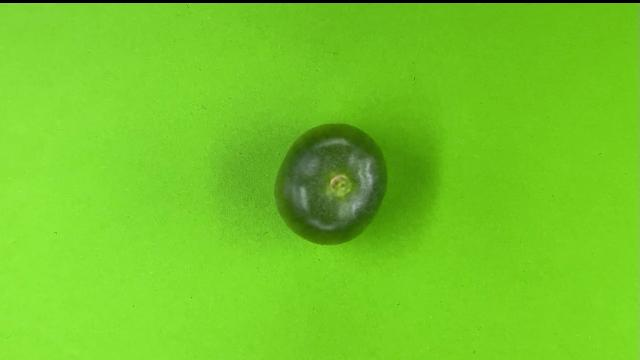Fruit Maturation: (273, 122, 390, 246)
